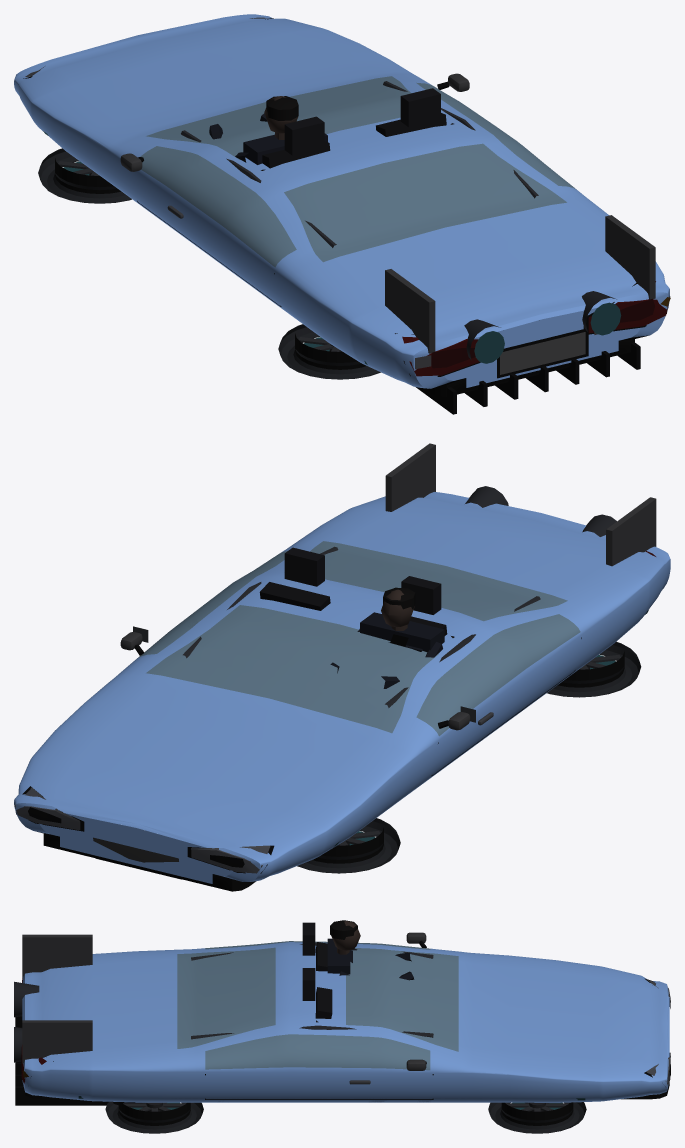
File: cv2_hover.glb
The picture shows the model from 3 angles, top to bottom: view 1: azimuth 30°, elevation 25°; view 2: azimuth 150°, elevation 25°; view 3: azimuth 270°, elevation 25°; orthographic projection. The views are drawn at different scales.
Parts seen in each view (by area): view 1: Body, DoorL_Mesh; view 2: Body, DoorL_Mesh; view 3: Body, DoorR_Mesh.
Part boxes in pixels (left/top/right/bottom): Body: left=14, top=14, right=670, bottom=414; DoorL_Mesh: left=131, top=151, right=294, bottom=304; Body: left=14, top=443, right=670, bottom=891; DoorL_Mesh: left=417, top=622, right=580, bottom=768; Body: left=14, top=920, right=670, bottom=1133; DoorR_Mesh: left=205, top=1037, right=433, bottom=1102.
Size of what is drawn, in the model's own units: 2.26 by 0.9876 by 4.67.
